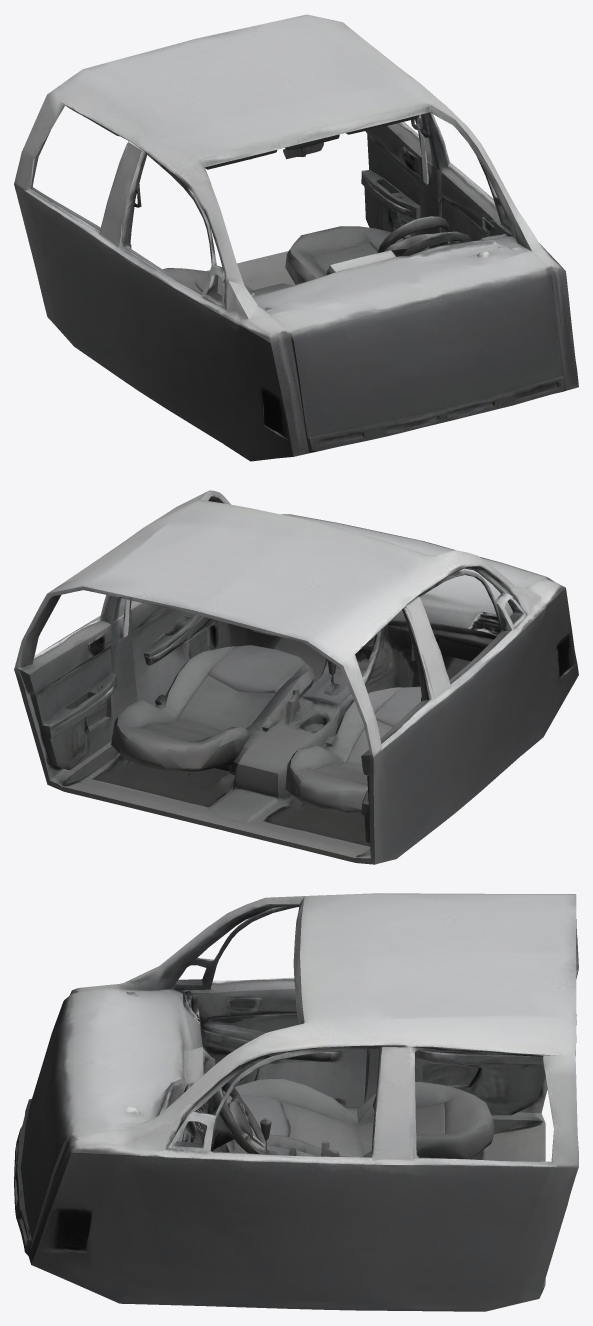
The model's file is int_carro.glb.
The picture shows the model from 3 angles, top to bottom: view 1: azimuth 30°, elevation 25°; view 2: azimuth 150°, elevation 25°; view 3: azimuth 270°, elevation 25°; orthographic projection. The views are drawn at different scales.
Visible parts, largest first — view 1: veiculo; view 2: veiculo; view 3: veiculo.
Part boxes in pixels (<box>): veiculo: <box>14,14,578,461</box>; veiculo: <box>14,490,578,864</box>; veiculo: <box>14,893,578,1311</box>.
Size of the model in its own units: 1.75 by 1.12 by 2.11.
1 material, 1 textured.
